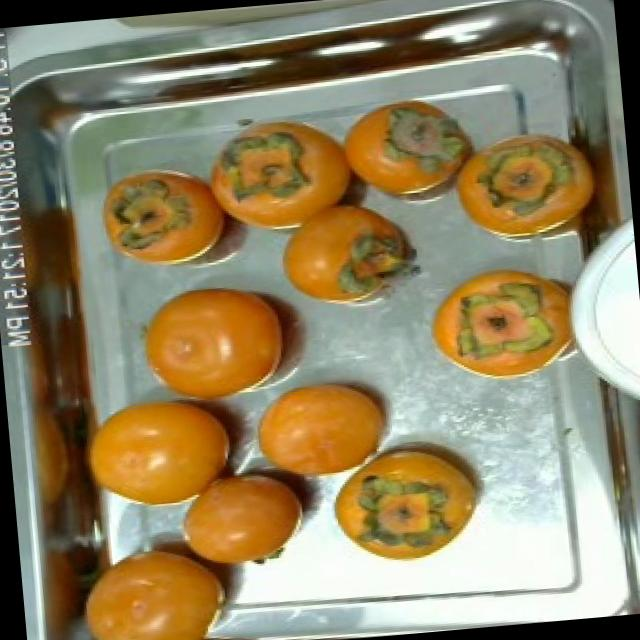Fruit: (120, 260, 336, 412), (65, 380, 260, 526), (316, 422, 498, 574), (435, 110, 620, 257), (415, 249, 592, 393), (58, 522, 266, 640), (323, 85, 495, 226), (259, 180, 433, 316), (158, 451, 324, 584), (85, 150, 246, 284), (238, 363, 408, 483)
